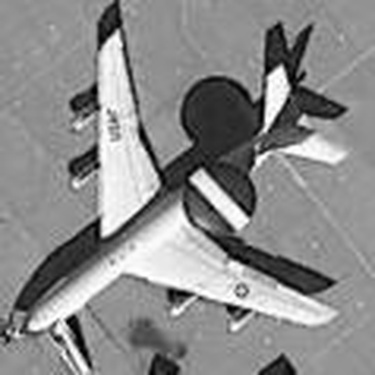airplane: (16, 8, 356, 346)
